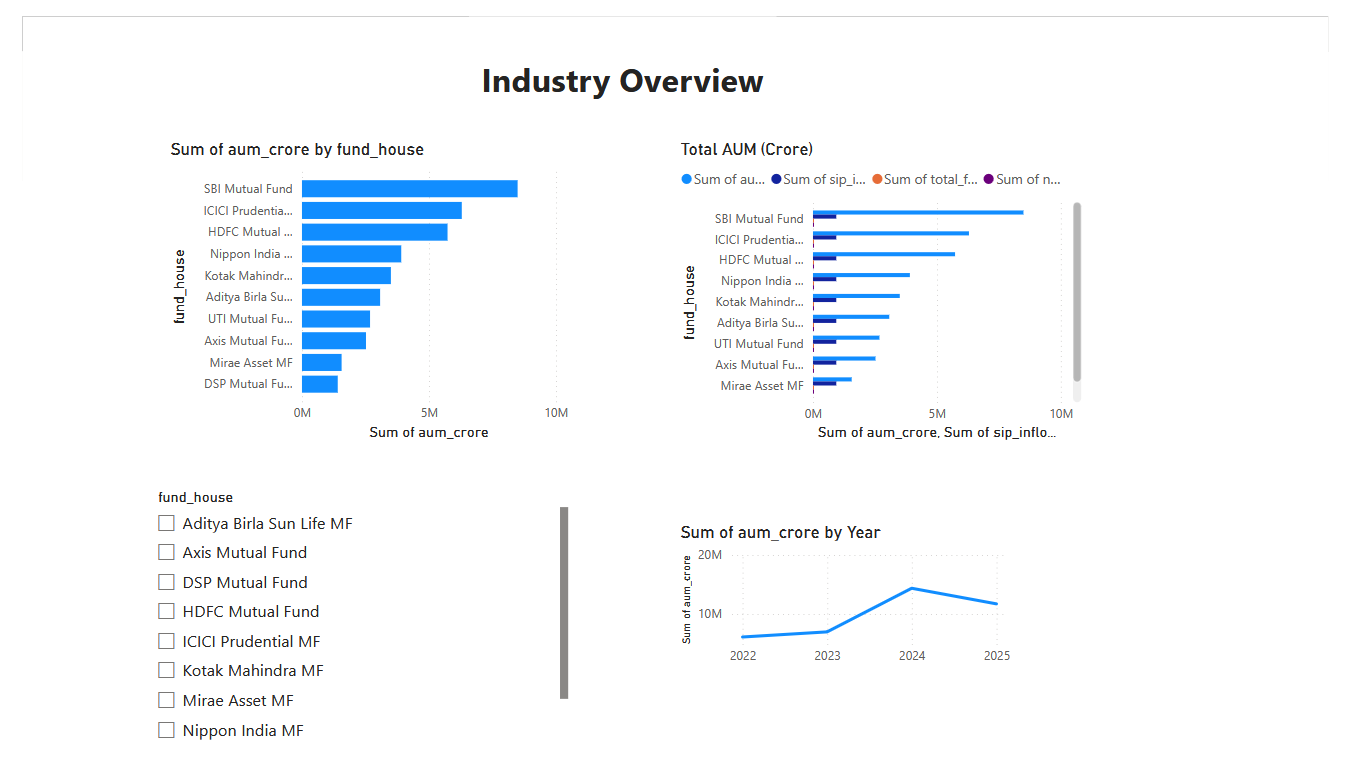

Layout of this report page (visuals, bound fields, positions):
{"tool":"powerbi","page":{"name":"Industry Overview","canvas":[1280,720],"ordinal":0},"visuals":[{"type":"textbox","box":[438.4,0,300.5,119.1],"z":0},{"type":"clusteredBarChart","title":"Total AUM (Crore)","fields":{"Y":["Sum(03_aum_by_fund_house_clean.aum_crore)","Sum(04_monthly_sip_inflows_clean.sip_inflow_crore)","Sum(06_industry_folio_count_clean.total_folios_crore)","Sum(03_aum_by_fund_house_clean.num_schemes)"],"Category":["03_aum_by_fund_house_clean.fund_house"]},"box":[640,120,402.5,300],"z":1000},{"type":"slicer","fields":{"Values":["03_aum_by_fund_house_clean.fund_house"]},"box":[120,457.5,420,262.5],"z":2000},{"type":"lineChart","fields":{"Category":["03_aum_by_fund_house_clean.date.Variation.Date Hierarchy.Year"],"Y":["Sum(03_aum_by_fund_house_clean.aum_crore)"]},"box":[640,495,332.5,150],"z":3000},{"type":"clusteredBarChart","fields":{"Y":["Sum(03_aum_by_fund_house_clean.aum_crore)"],"Category":["03_aum_by_fund_house_clean.fund_house"]},"box":[140,120,400,300],"z":4000}]}

Visuals, with their boxes in screenshot pixels (x1, y1, x2, y2), scaled from the page's 1280x720 canvas onto the 1345x774 screenshot:
textbox: l=461, t=0, r=776, b=128
"Total AUM (Crore)" clusteredBarChart: l=672, t=129, r=1095, b=452
slicer - 03_aum_by_fund_house_clean.fund_house: l=126, t=492, r=567, b=773
lineChart - 03_aum_by_fund_house_clean.date.Variation.Date Hierarchy.Year x Sum(03_aum_by_fund_house_clean.aum_crore): l=672, t=532, r=1022, b=693
clusteredBarChart - Sum(03_aum_by_fund_house_clean.aum_crore) x 03_aum_by_fund_house_clean.fund_house: l=147, t=129, r=567, b=452
